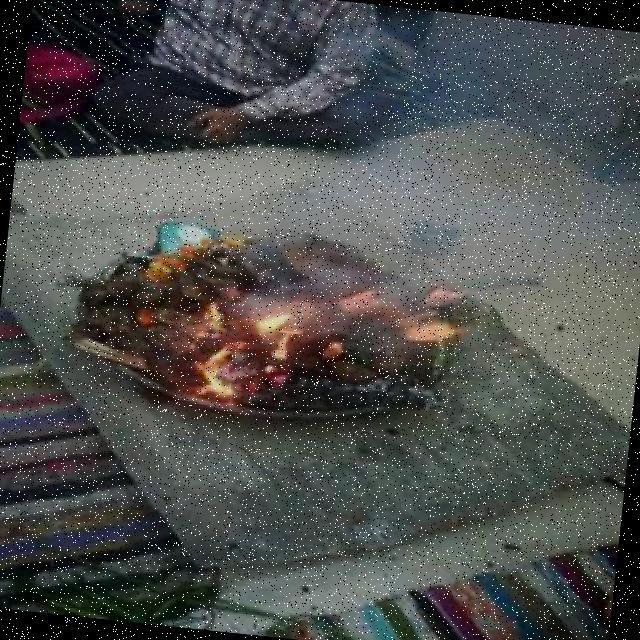Fire: (176, 284, 305, 408), (315, 268, 467, 349)
Smoke: (248, 129, 640, 337)
